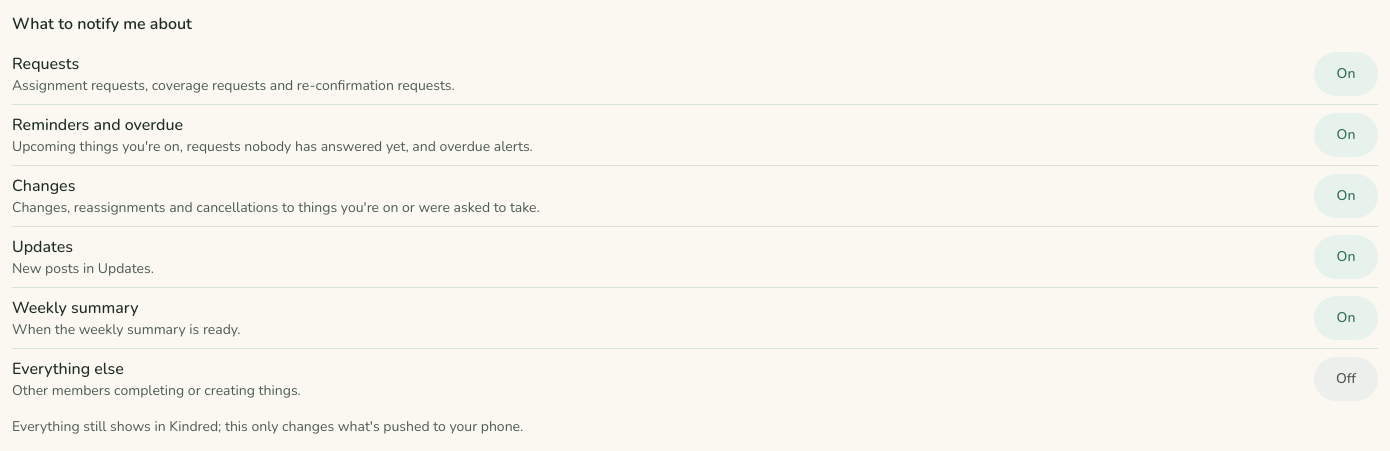
Test: turning on a category that is off by default
This screenshot has width=1390, height=451.
Step 1. Click the switch named "Everything else" → (1346, 379), box [1314,357,1378,401]
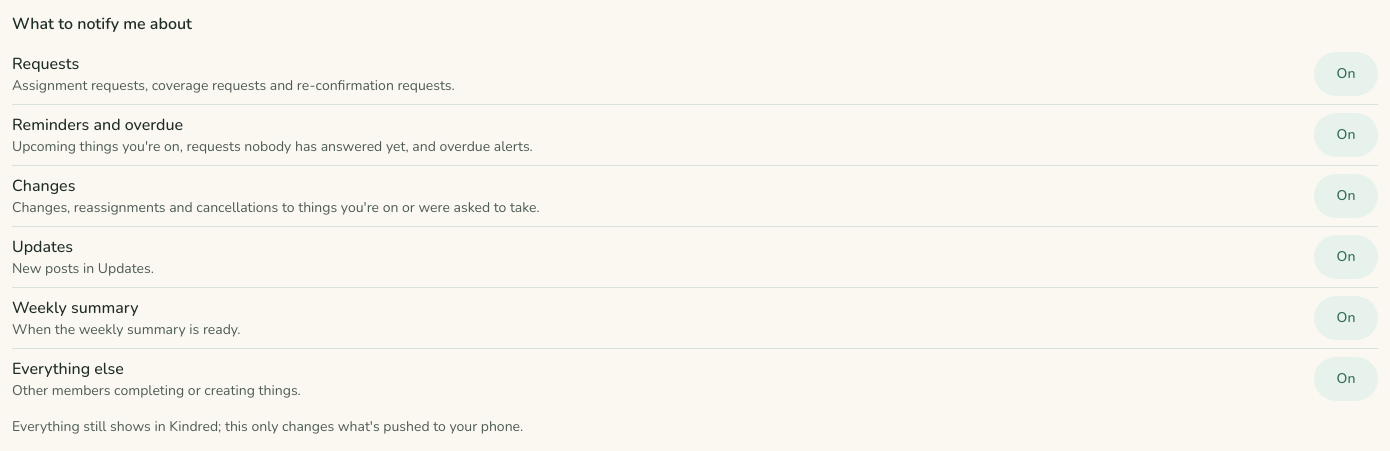
Now the switch named "Everything else" reads "On", box [1314,357,1378,401]
